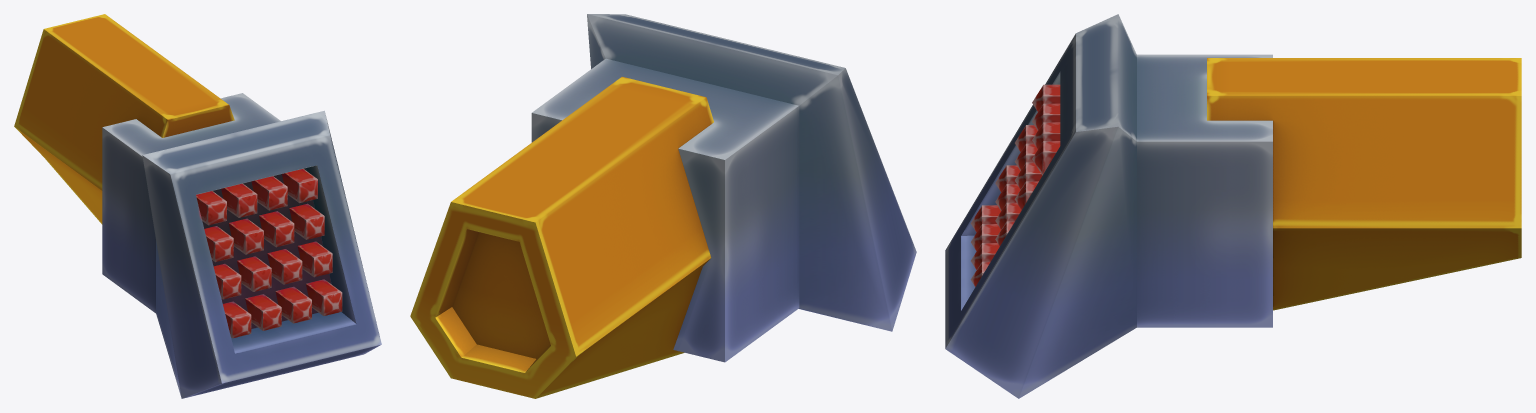
File: weapon_MissileLauncher.fbx
3 renders of one model, left to right at view 1: azimuth 30°, elevation 25°; view 2: azimuth 150°, elevation 25°; view 3: azimuth 270°, elevation 25°, orthographic. The views are drawn at different scales.
Parts seen in each view (by area): view 1: missileLauncher_launcher, missileLauncher_attachment, missileLauncher_missiles; view 2: missileLauncher_attachment, missileLauncher_launcher; view 3: missileLauncher_launcher, missileLauncher_attachment, missileLauncher_missiles.
Boxes of the visible parts, left/top/right/bottom form: missileLauncher_launcher: left=102, top=93, right=381, bottom=398; missileLauncher_attachment: left=14, top=14, right=234, bottom=224; missileLauncher_missiles: left=196, top=168, right=342, bottom=338; missileLauncher_attachment: left=410, top=76, right=713, bottom=398; missileLauncher_launcher: left=531, top=14, right=916, bottom=362; missileLauncher_launcher: left=945, top=14, right=1272, bottom=398; missileLauncher_attachment: left=1207, top=58, right=1521, bottom=310; missileLauncher_missiles: left=970, top=84, right=1060, bottom=286.
Bounding box in the file's own units: 0.6012 × 0.6772 × 1.3.
